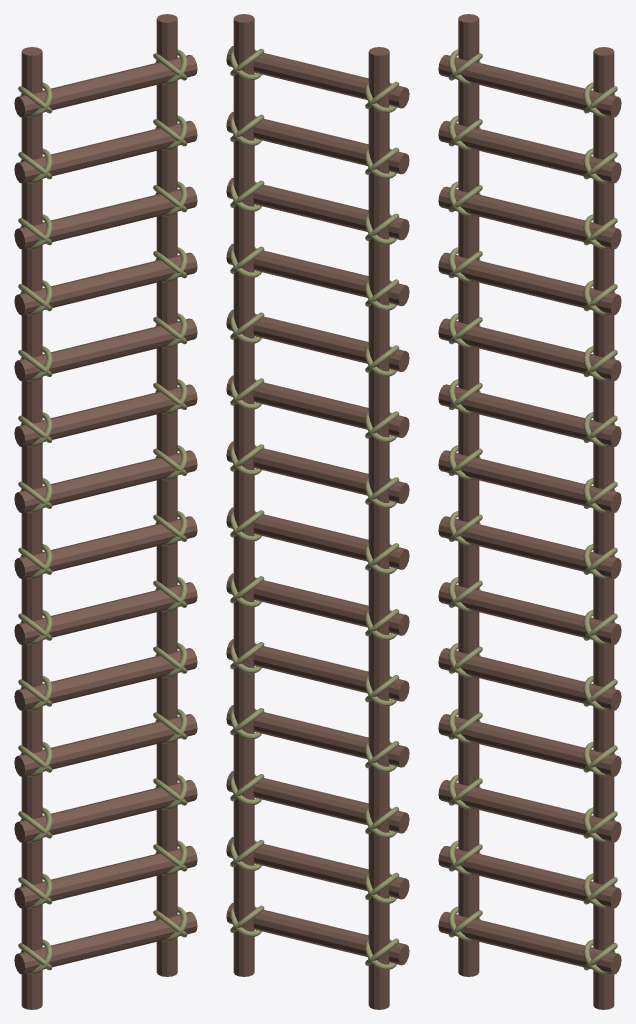
Rendered from Ladder 2.fbx.
3 renders of one model, left to right at view 1: azimuth 30°, elevation 25°; view 2: azimuth 150°, elevation 25°; view 3: azimuth 330°, elevation 25°, orthographic.
Parts seen in each view (by area): view 1: Ladder 2; view 2: Ladder 2; view 3: Ladder 2.
Boxes of the visible parts, x1,y1,x2,y2 form: Ladder 2: [14, 14, 197, 1009]; Ladder 2: [226, 14, 409, 1009]; Ladder 2: [438, 14, 621, 1009].
Bounding box in the file's own units: 2.93 × 15.47 × 0.6698.
